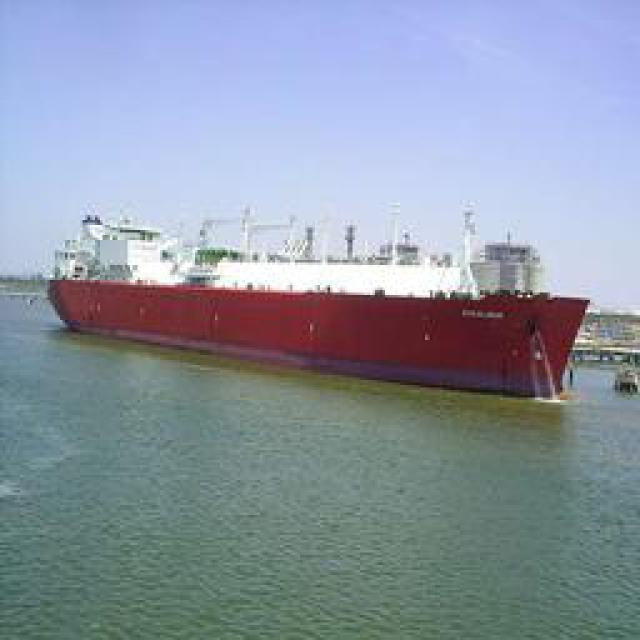Ship: (47, 227, 597, 397)
